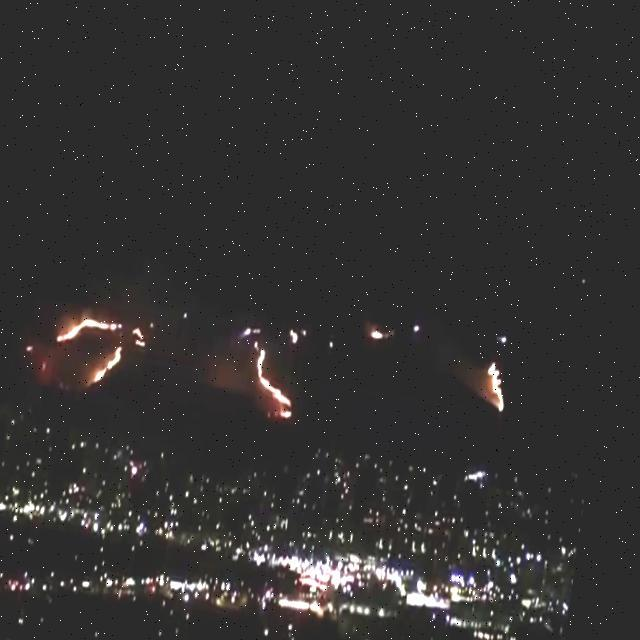Fire: (260, 337, 310, 407), (66, 304, 130, 344), (494, 340, 518, 392), (105, 336, 132, 382), (139, 318, 158, 344), (379, 312, 393, 327)
